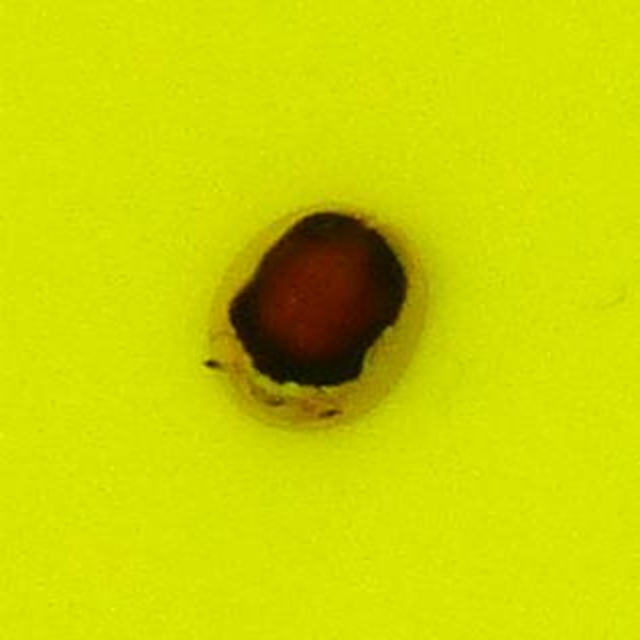Coleoptera: (203, 200, 437, 440)
